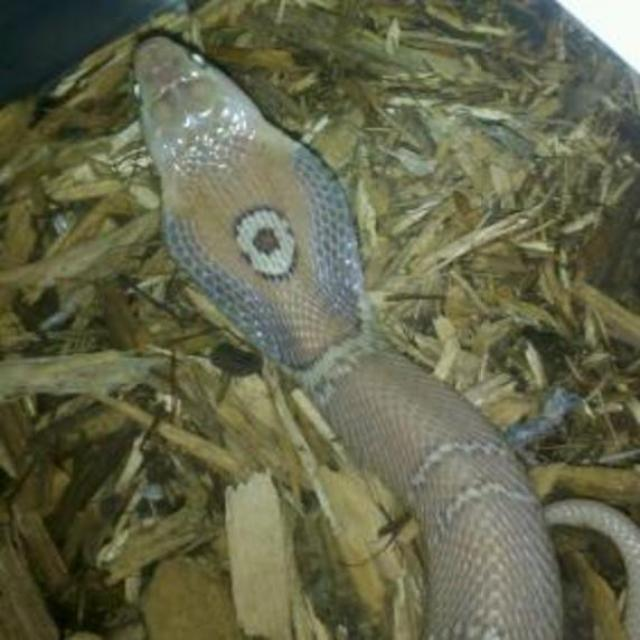Snake: (129, 29, 639, 639)
